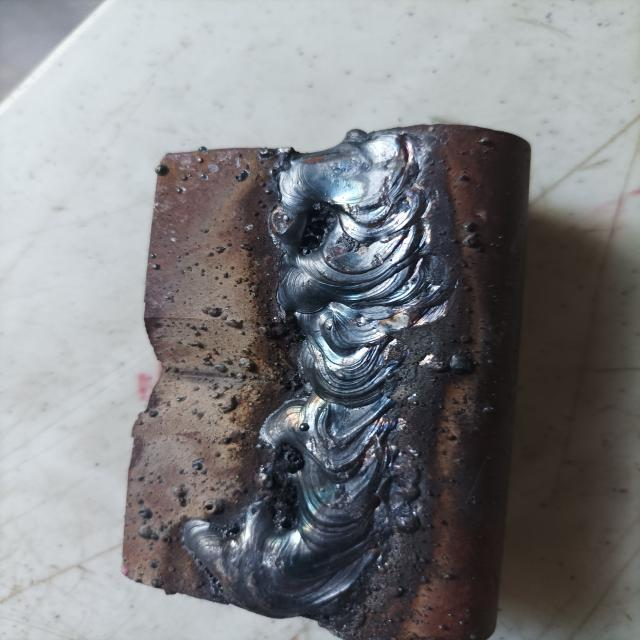Excess Reinforcement: (303, 302, 422, 385)
Porosity: (296, 201, 338, 260), (277, 440, 308, 475), (337, 232, 362, 253), (275, 515, 297, 531)
